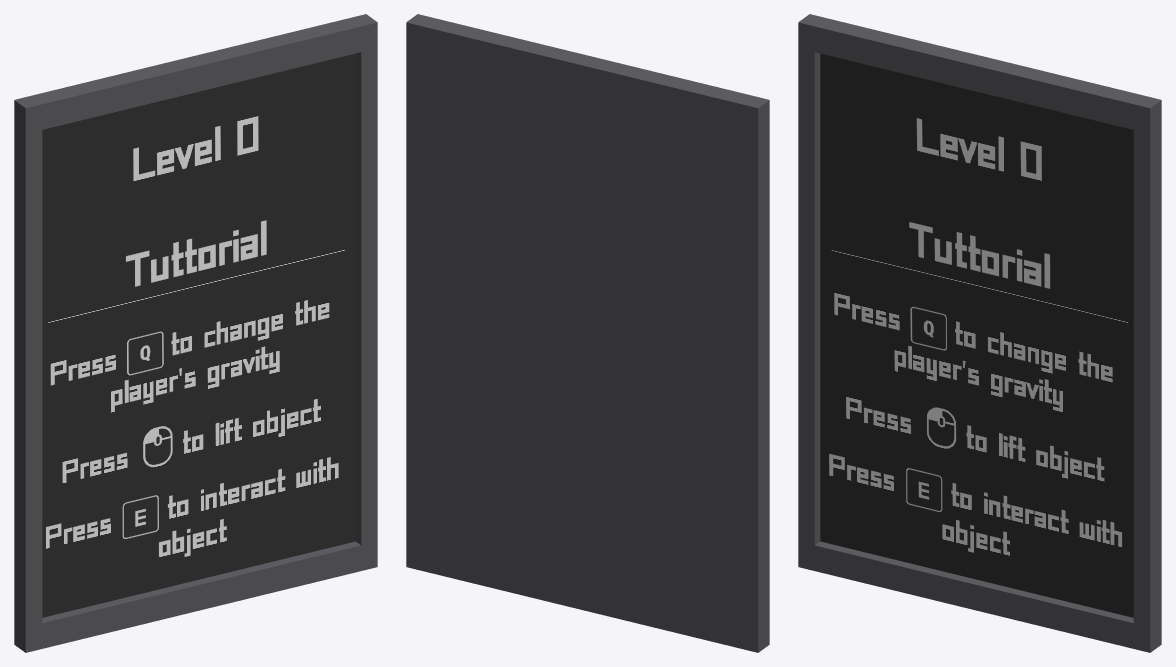
File: TuttorialScreen.glb
3 views of the same model, side by side, from view 1: azimuth 30°, elevation 25°; view 2: azimuth 150°, elevation 25°; view 3: azimuth 330°, elevation 25° (orthographic).
Parts seen in each view (by area): view 1: Cube.006, Cube.005; view 2: Cube.005; view 3: Cube.006, Cube.005.
Boxes of the visible parts, x1,y1,x2,y2 form: Cube.006: (42, 53, 355, 617); Cube.005: (14, 14, 377, 652); Cube.005: (406, 14, 769, 652); Cube.006: (820, 53, 1133, 617); Cube.005: (798, 14, 1161, 652).
Size of the model in its own units: 1.13 by 1.67 by 0.0642.
Materials: 2 (1 with a texture image).
